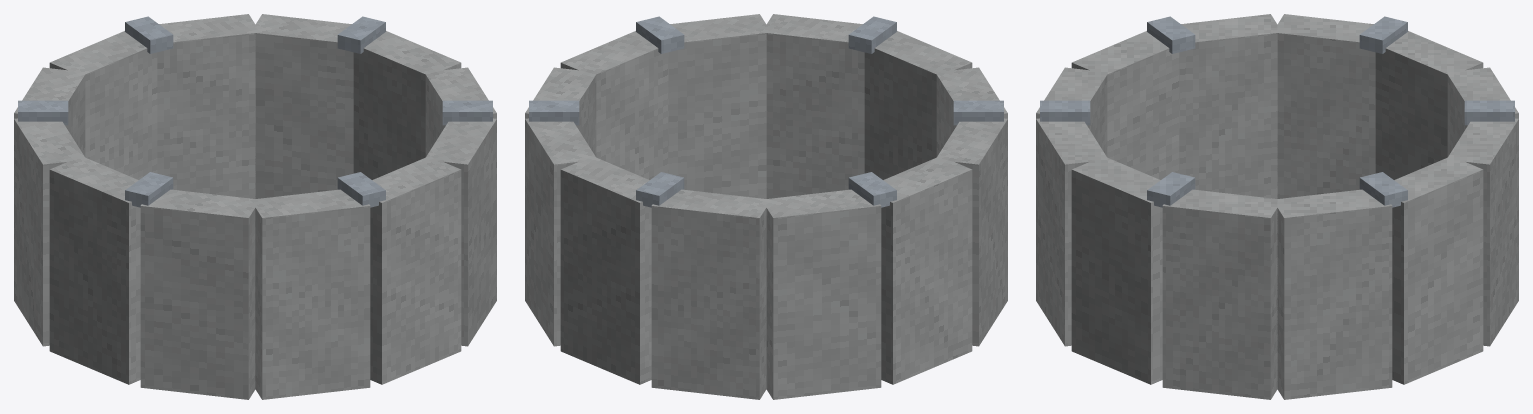
File: level_blockout_lighthouse_tower_wall_course.glb
The picture shows the model from 3 angles, left to right: view 1: azimuth 30°, elevation 25°; view 2: azimuth 150°, elevation 25°; view 3: azimuth 270°, elevation 25°; orthographic projection.
Parts seen in each view (by area): view 1: level_blockout_lighthouse_tower_wall_course; view 2: level_blockout_lighthouse_tower_wall_course; view 3: level_blockout_lighthouse_tower_wall_course.
Boxes of the visible parts, x1=… form: level_blockout_lighthouse_tower_wall_course: x1=14, y1=14, x2=496, y2=399; level_blockout_lighthouse_tower_wall_course: x1=525, y1=14, x2=1007, y2=399; level_blockout_lighthouse_tower_wall_course: x1=1036, y1=14, x2=1518, y2=399.
Size of the model in its own units: 2.89 by 1.26 by 2.89.
2 materials, 2 textured.
